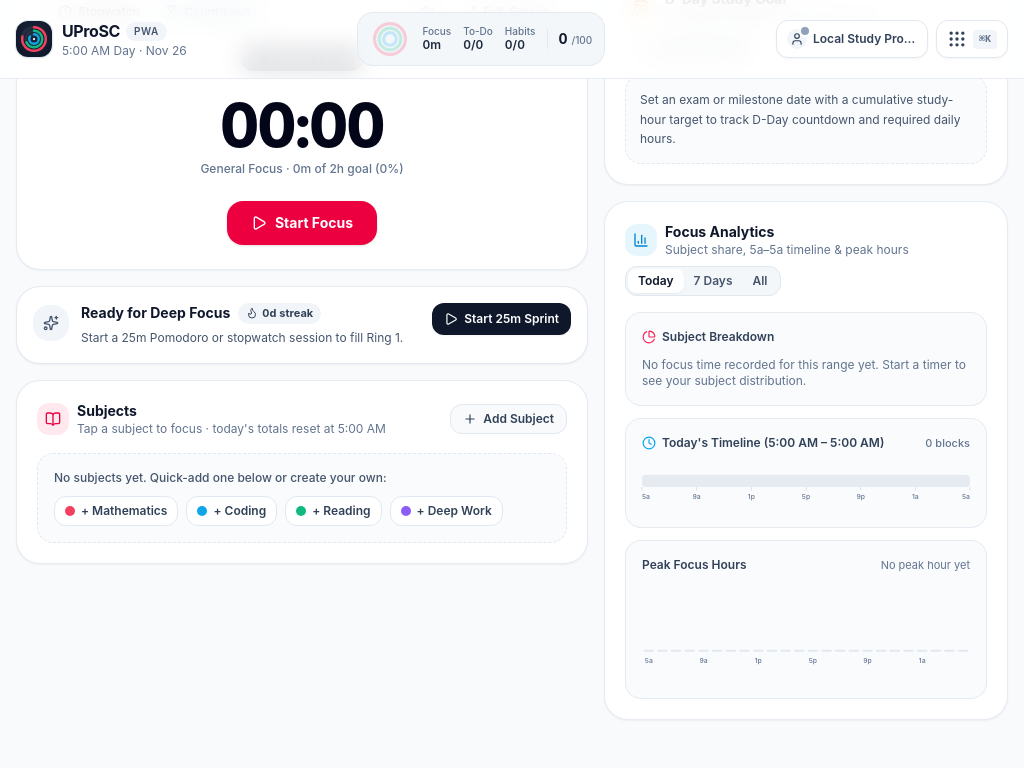
TimerTab — Phase 3 Focus Timer, Subjects, D-Day, Analytics & Full-Screen › runs stopwatch, logs session on finish, and updates header Ring 1 + SVG analytics
Later steps or results of the test are not shown.
(page scrolled)
# Quick-add Mathematics subject
Click the button "+ Mathematics": [116, 511] box [54, 496, 178, 526]
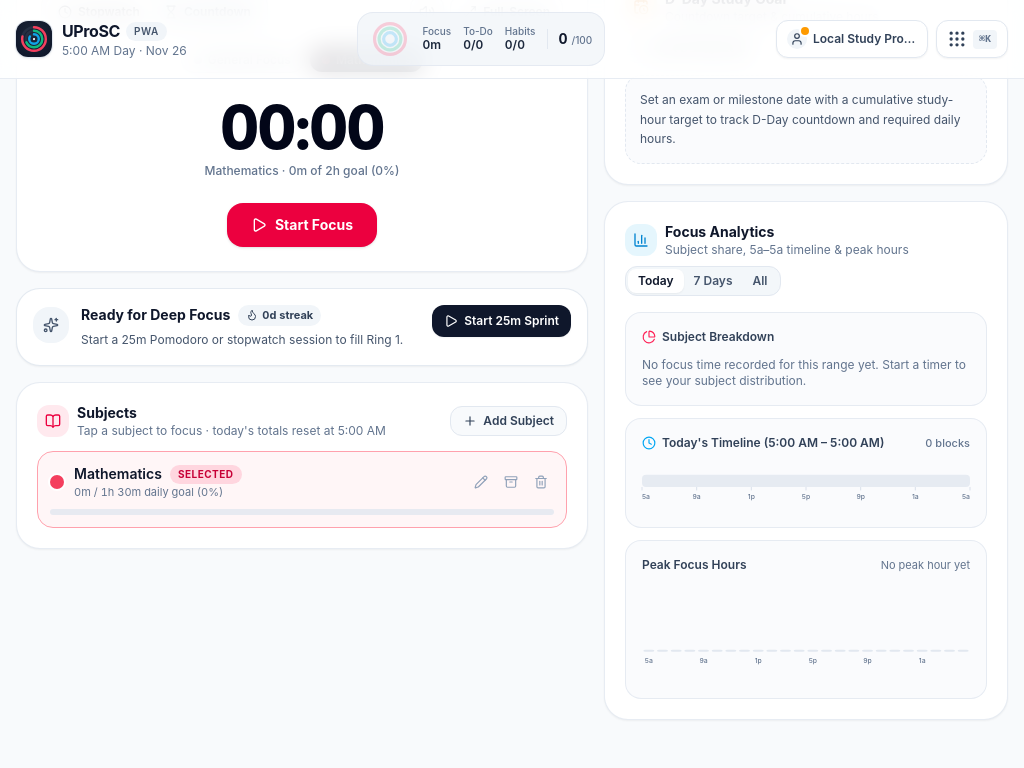
# Start stopwatch
Click the button "Start Focus": [302, 225] box [227, 203, 377, 247]
Wait 1000 ms
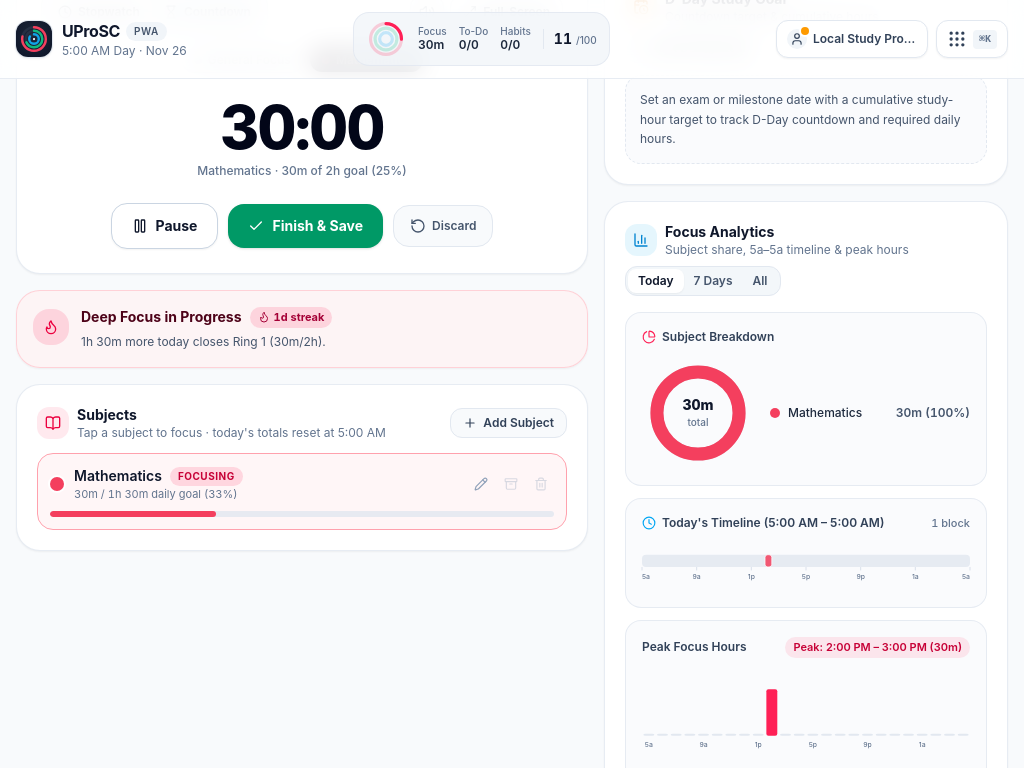
Check: the text with test id "timer-clock-readout" reads "30:00", box [220, 91, 384, 163]
Check: the text with test id "productivity-score-value" reads "11", box [554, 30, 572, 47]
